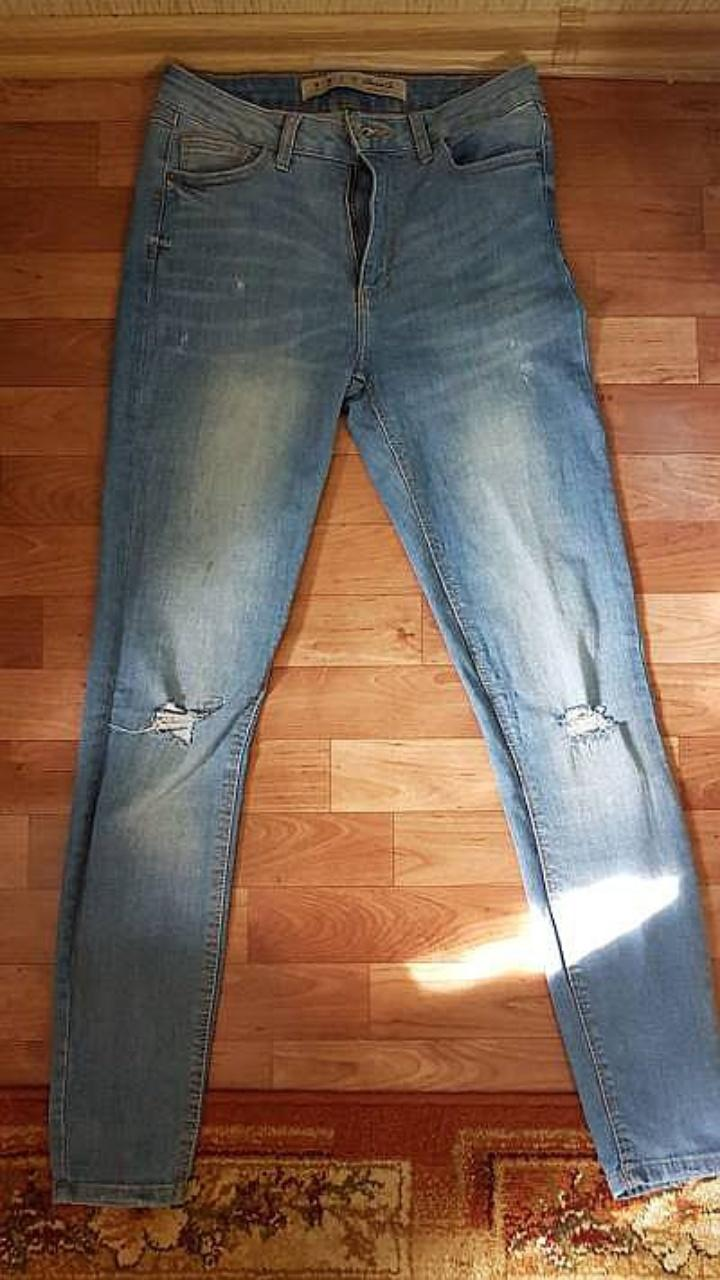Jeans: (49, 63, 719, 1204)
